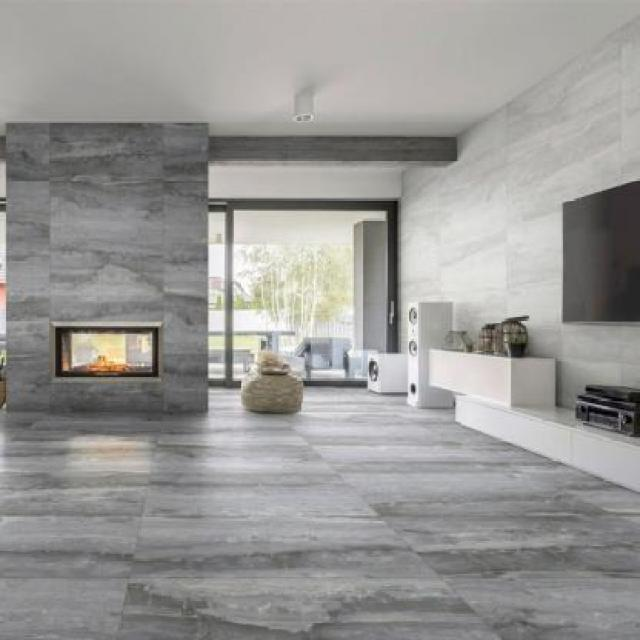Floor: (0, 384, 640, 640)
